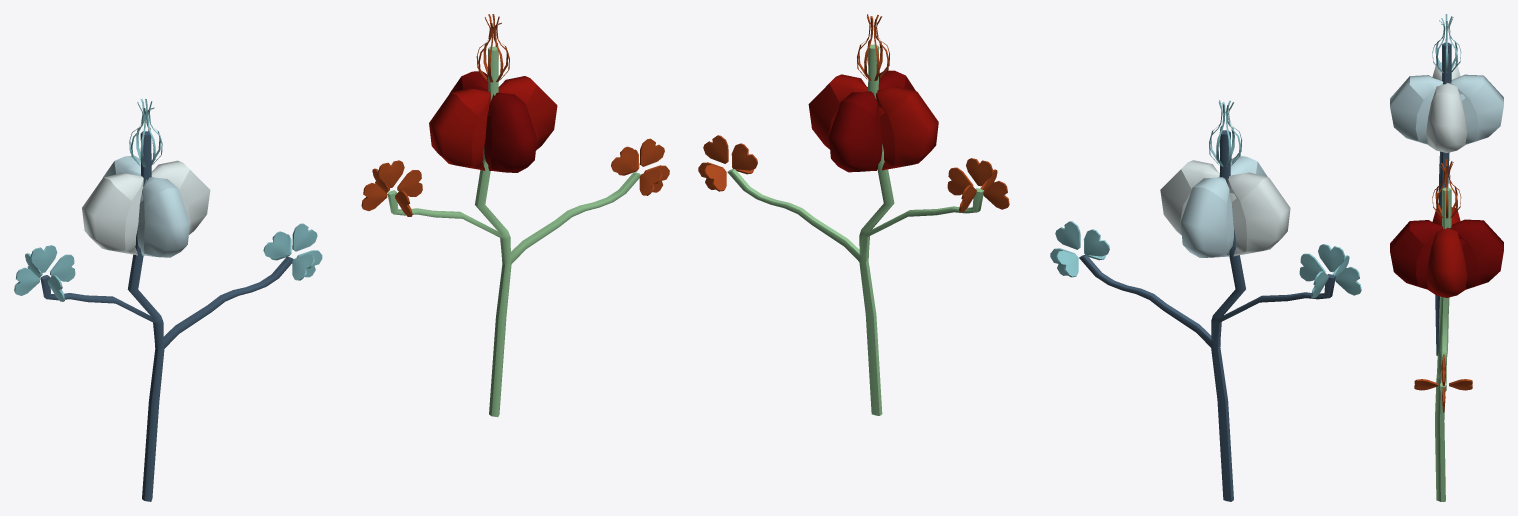
File: Planta_Cura_Fechada_Estações.fbx
3 renders of one model, left to right at view 1: azimuth 30°, elevation 25°; view 2: azimuth 150°, elevation 25°; view 3: azimuth 270°, elevation 25°, orthographic. The views are drawn at different scales.
Parts seen in each view (by area): view 1: Planta_Fechada:pCube1, pCube1, Planta_Fechada:pCube25, pCube25, Planta_Fechada:pCube26, pCube26, pCube23, Planta_Fechada:pCube23; view 2: Planta_Fechada:pCube1, pCube1, Planta_Fechada:pCube25, pCube25, pCube24, Planta_Fechada:pCube24, Planta_Fechada:pCube23, pCube23; view 3: pCube24, Planta_Fechada:pCube24, Planta_Fechada:pCube26, pCube26, pCube1, pCube23, Planta_Fechada:pCube23, Planta_Fechada:pCube1, pCube6, pCube5, Planta_Fechada:pCube25, pCube25.
Boxes of the visible parts, left/top/right/bottom form: Planta_Fechada:pCube1: left=40, top=131, right=293, bottom=501; pCube1: left=387, top=46, right=640, bottom=417; Planta_Fechada:pCube25: left=82, top=173, right=143, bottom=255; pCube25: left=429, top=88, right=490, bottom=170; Planta_Fechada:pCube26: left=137, top=177, right=189, bottom=257; pCube26: left=484, top=92, right=536, bottom=172; pCube23: left=498, top=76, right=557, bottom=150; Planta_Fechada:pCube23: left=151, top=160, right=210, bottom=234; Planta_Fechada:pCube1: left=1079, top=130, right=1335, bottom=501; pCube1: left=727, top=44, right=984, bottom=415; Planta_Fechada:pCube25: left=1227, top=172, right=1290, bottom=256; pCube25: left=876, top=86, right=938, bottom=170; pCube24: left=829, top=91, right=882, bottom=172; Planta_Fechada:pCube24: left=1180, top=177, right=1233, bottom=257; Planta_Fechada:pCube23: left=1160, top=160, right=1219, bottom=235; pCube23: left=808, top=74, right=867, bottom=149; pCube24: left=1450, top=219, right=1503, bottom=289; Planta_Fechada:pCube24: left=1450, top=74, right=1503, bottom=144; Planta_Fechada:pCube26: left=1390, top=75, right=1443, bottom=144; pCube26: left=1390, top=220, right=1442, bottom=289; pCube1: left=1435, top=187, right=1451, bottom=501; pCube23: left=1426, top=227, right=1467, bottom=297; Planta_Fechada:pCube23: left=1426, top=83, right=1467, bottom=152; Planta_Fechada:pCube1: left=1435, top=42, right=1451, bottom=355; pCube6: left=1414, top=379, right=1438, bottom=390; pCube5: left=1449, top=379, right=1472, bottom=390; Planta_Fechada:pCube25: left=1432, top=62, right=1460, bottom=80; pCube25: left=1432, top=207, right=1460, bottom=225.
Size of the model in its own units: 3160 by 1826 by 557.
